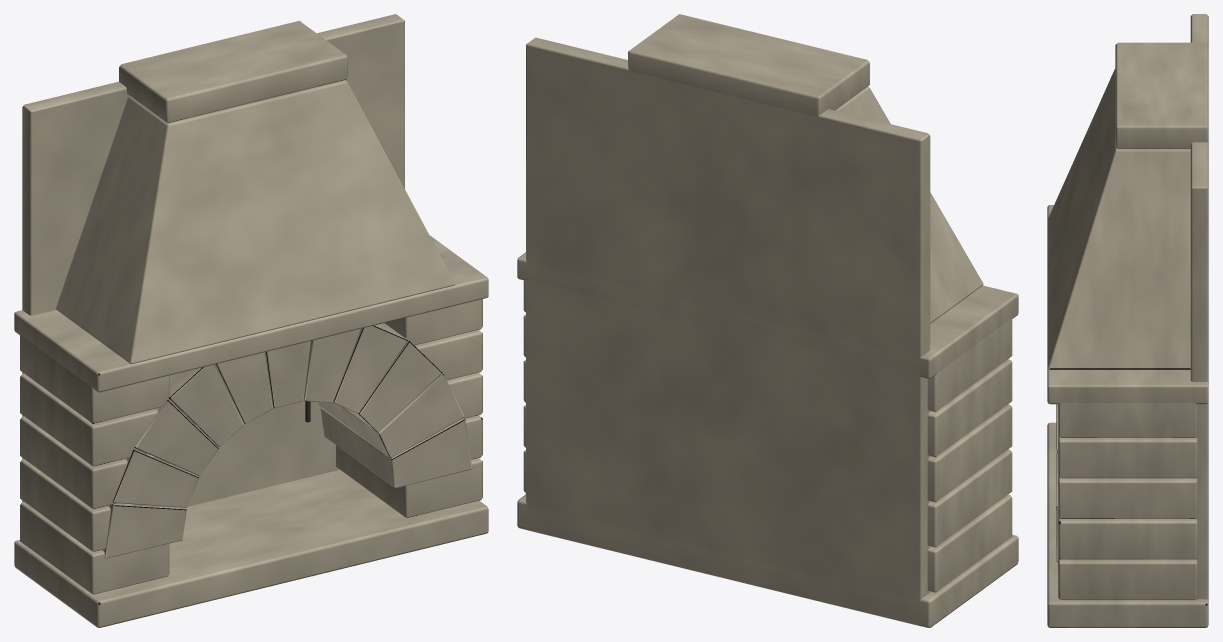
The model's file is Furn_KitchenHearth.fbx.
The picture shows the model from 3 angles, left to right: view 1: azimuth 30°, elevation 25°; view 2: azimuth 150°, elevation 25°; view 3: azimuth 270°, elevation 25°; orthographic projection. The views are drawn at different scales.
Visible parts, largest first — view 1: Furn_KitchenHearth_Mesh; view 2: Furn_KitchenHearth_Mesh; view 3: Furn_KitchenHearth_Mesh.
Boxes of the visible parts, <box> form: Furn_KitchenHearth_Mesh: <box>14,14,488,627</box>; Furn_KitchenHearth_Mesh: <box>517,14,1018,627</box>; Furn_KitchenHearth_Mesh: <box>1047,14,1208,627</box>.
Bounding box in the file's own units: 2.4 × 2.8 × 0.9.
Materials: 2 (2 with a texture image).
